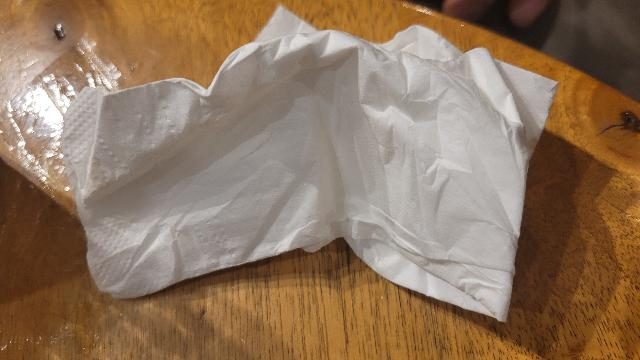Kagit: (48, 9, 558, 324)
